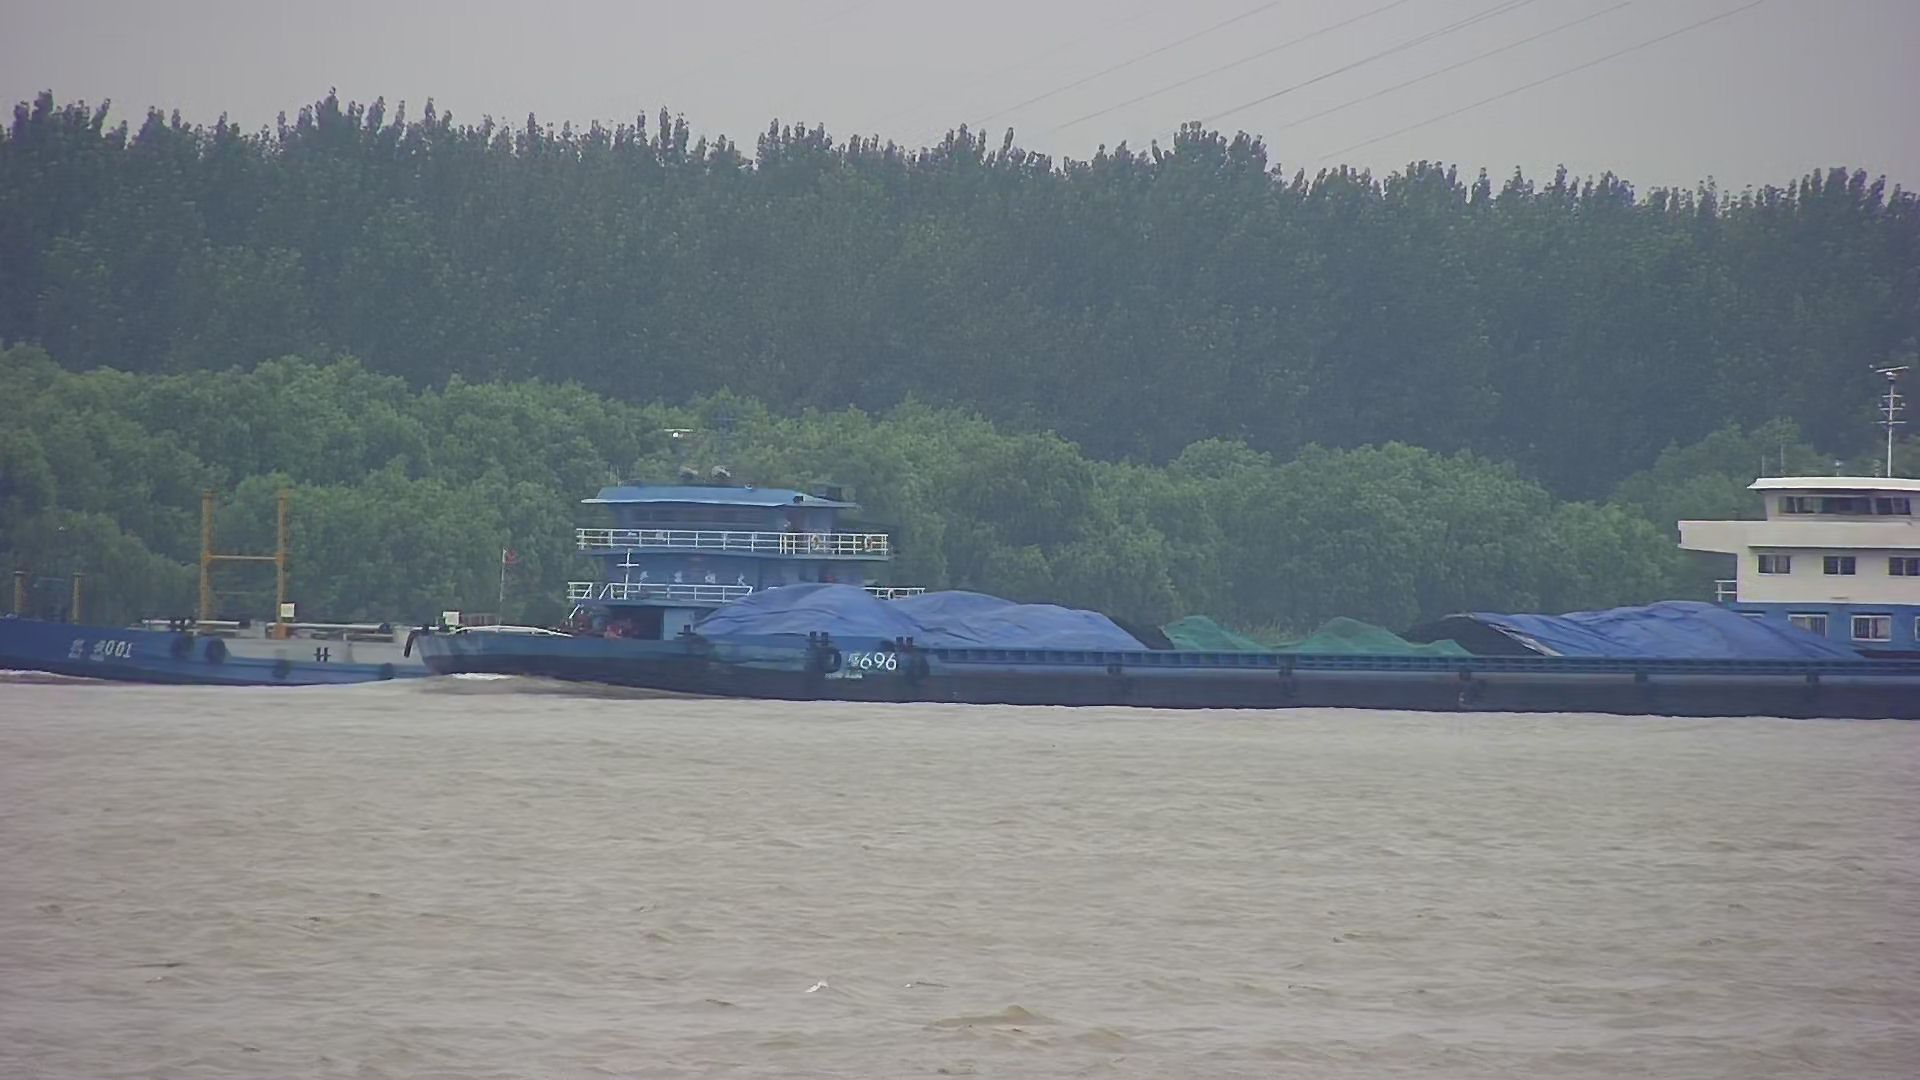ship: (425, 465, 1920, 728), (3, 423, 942, 699)
